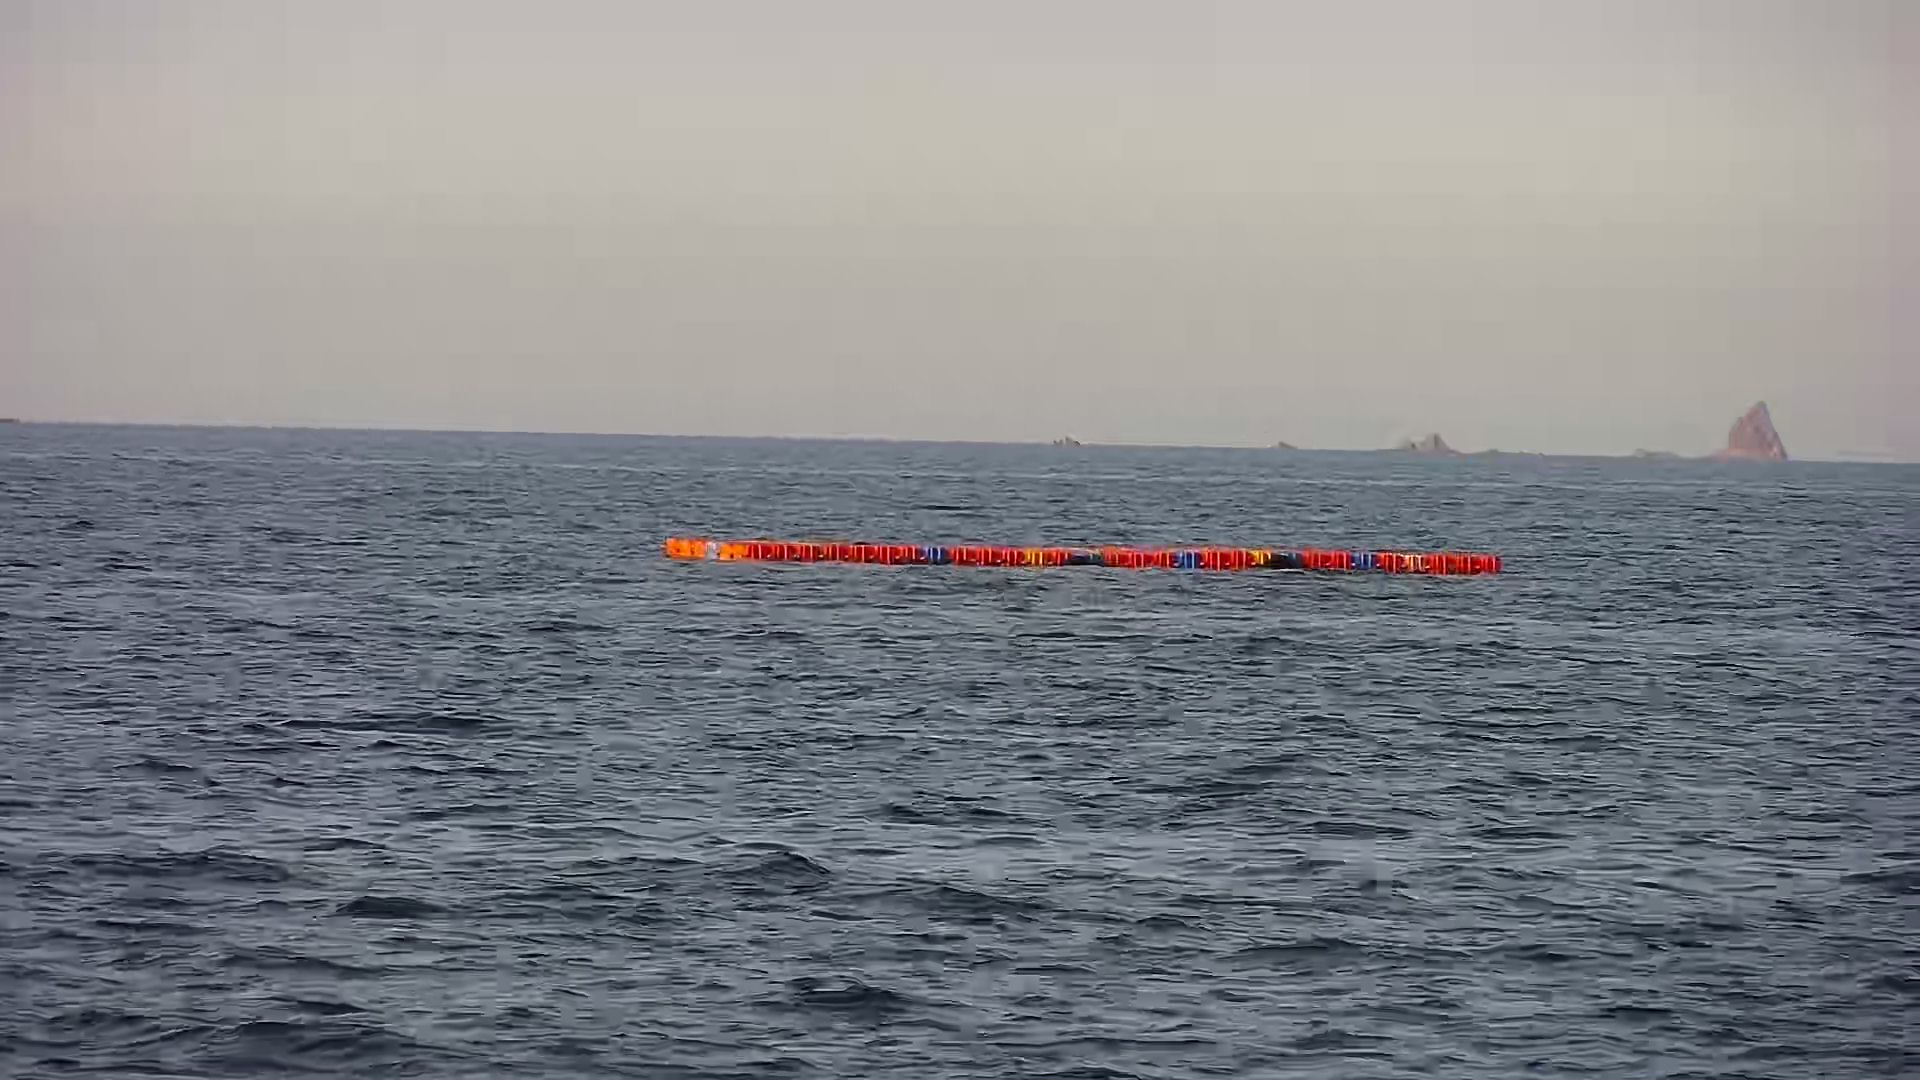rock: (1720, 397, 1797, 475), (1389, 433, 1457, 462)
rubbish: (674, 524, 1509, 584)
